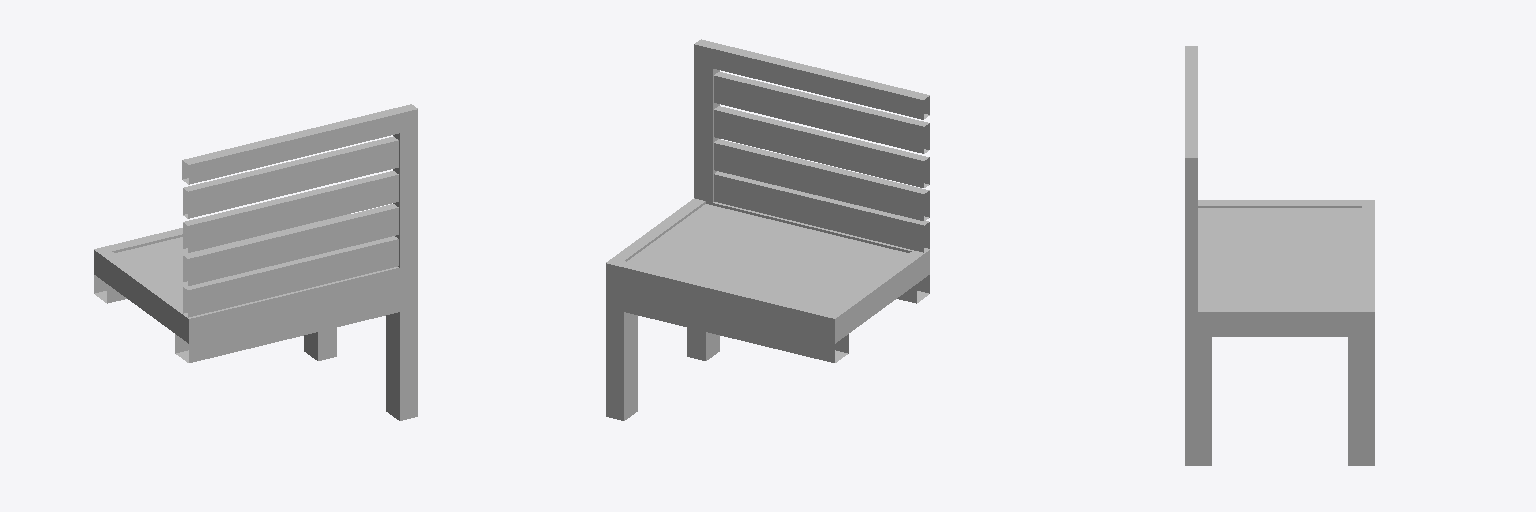
File: benchleftx-.obj
3 views of the same model, side by side, from view 1: azimuth 30°, elevation 25°; view 2: azimuth 150°, elevation 25°; view 3: azimuth 270°, elevation 25° (orthographic).
Parts seen in each view (by area): view 1: chair_bedx+.042; view 2: chair_bedx+.042; view 3: chair_bedx+.042.
Boxes of the visible parts, x1,y1,x2,y2 form: chair_bedx+.042: [94, 104, 417, 420]; chair_bedx+.042: [606, 39, 929, 420]; chair_bedx+.042: [1185, 46, 1374, 465].
Size of the model in its own units: 0.9737 by 1.25 by 0.7.